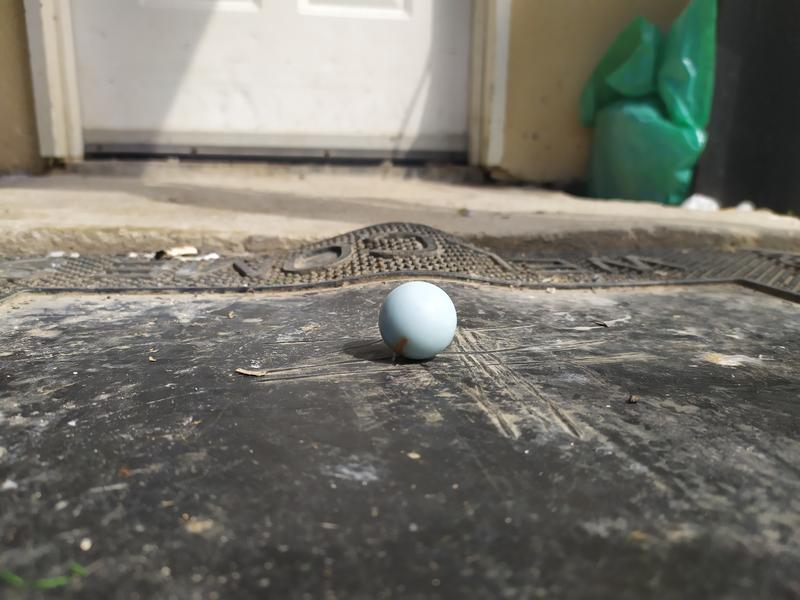Warning: (377, 279, 460, 364)
